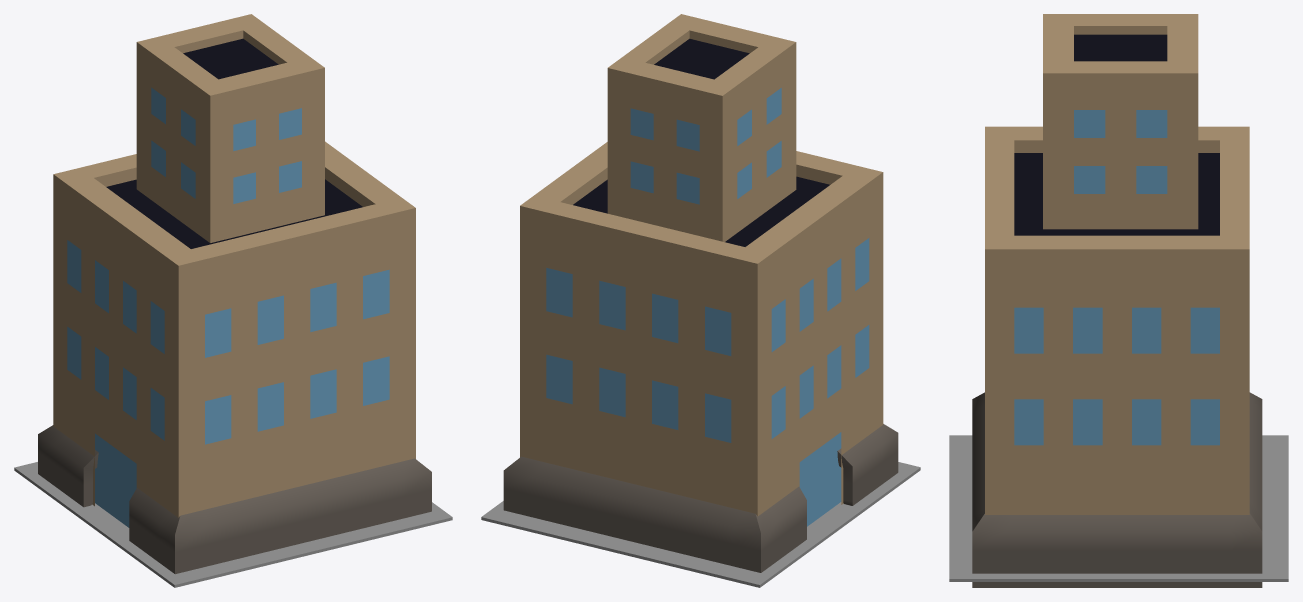
The model's file is Hotel III.FBX.
3 renders of one model, left to right at view 1: azimuth 30°, elevation 25°; view 2: azimuth 150°, elevation 25°; view 3: azimuth 270°, elevation 25°, orthographic. The views are drawn at different scales.
Parts seen in each view (by area): view 1: Box005, Box004, Box006, Box007, Object, Object002, Plane001, Box008, Object006, Object004; view 2: Box005, Box004, Box006, Box007, Object, Object002, Plane001, Box008, Object006, Object004; view 3: Box005, Box006, Box004, Object, Box007, Plane001, Object002, Object006, Box008, Object004.
Part boxes in pixels (bbox=[...]): Box005: bbox=[53, 186, 415, 517]; Box004: bbox=[136, 50, 324, 242]; Box006: bbox=[38, 425, 431, 574]; Box007: bbox=[67, 240, 389, 527]; Object: bbox=[53, 141, 415, 277]; Object002: bbox=[136, 14, 324, 103]; Plane001: bbox=[14, 462, 452, 587]; Box008: bbox=[151, 87, 301, 203]; Object006: bbox=[106, 179, 362, 248]; Object004: bbox=[183, 38, 278, 79]; Box005: bbox=[520, 184, 883, 516]; Box004: bbox=[607, 50, 796, 241]; Box006: bbox=[503, 424, 898, 572]; Box007: bbox=[546, 238, 869, 526]; Object: bbox=[520, 142, 883, 275]; Object002: bbox=[607, 14, 796, 103]; Plane001: bbox=[481, 462, 920, 587]; Box008: bbox=[630, 88, 781, 204]; Object006: bbox=[573, 176, 829, 246]; Object004: bbox=[654, 38, 749, 79]; Box005: bbox=[985, 262, 1249, 514]; Box006: bbox=[972, 392, 1262, 587]; Box004: bbox=[1043, 82, 1198, 229]; Object: bbox=[985, 126, 1249, 261]; Box007: bbox=[1014, 307, 1219, 445]; Plane001: bbox=[949, 435, 1288, 581]; Object002: bbox=[1043, 14, 1198, 81]; Object006: bbox=[1014, 153, 1219, 235]; Box008: bbox=[1074, 110, 1167, 193]; Object004: bbox=[1074, 34, 1167, 61].
Size of the model in its own units: 2 by 3.1 by 2.
